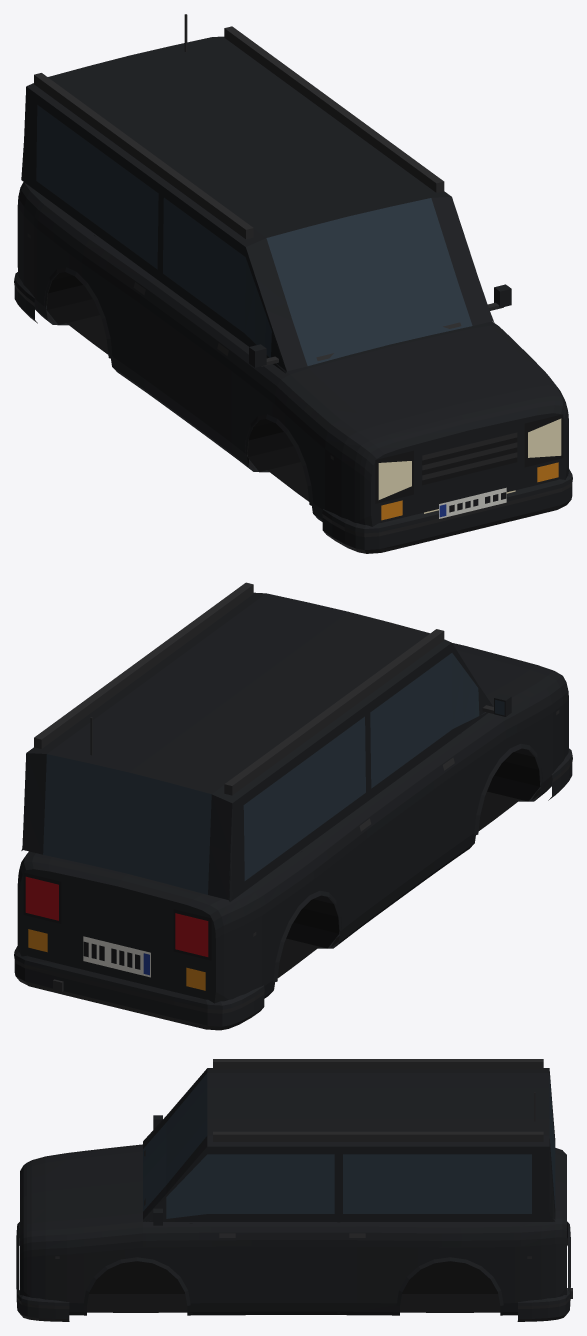
Rendered from tejon-cumbre.glb.
3 renders of one model, top to bottom at view 1: azimuth 30°, elevation 25°; view 2: azimuth 150°, elevation 25°; view 3: azimuth 270°, elevation 25°, orthographic. The views are drawn at different scales.
Parts seen in each view (by area): view 1: LOD0, door_FR, door_RR; view 2: LOD0, door_FR, door_RR; view 3: LOD0, door_FL, door_RL.
Boxes of the visible parts, <box> form: LOD0: <box>14,14,572,553</box>; door_FR: <box>151,187,255,464</box>; door_RR: <box>82,137,158,393</box>; LOD0: <box>14,582,572,1030</box>; door_FR: <box>370,643,473,913</box>; door_RR: <box>301,706,377,941</box>; LOD0: <box>16,1059,572,1321</box>; door_FL: <box>191,1146,337,1311</box>; door_RL: <box>340,1146,441,1312</box>.
Size of what is drawn, in the model's own units: 1.98 by 1.93 by 4.78.
